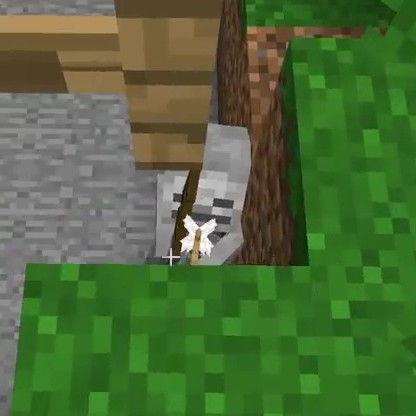skeleton: (151, 120, 255, 258)
